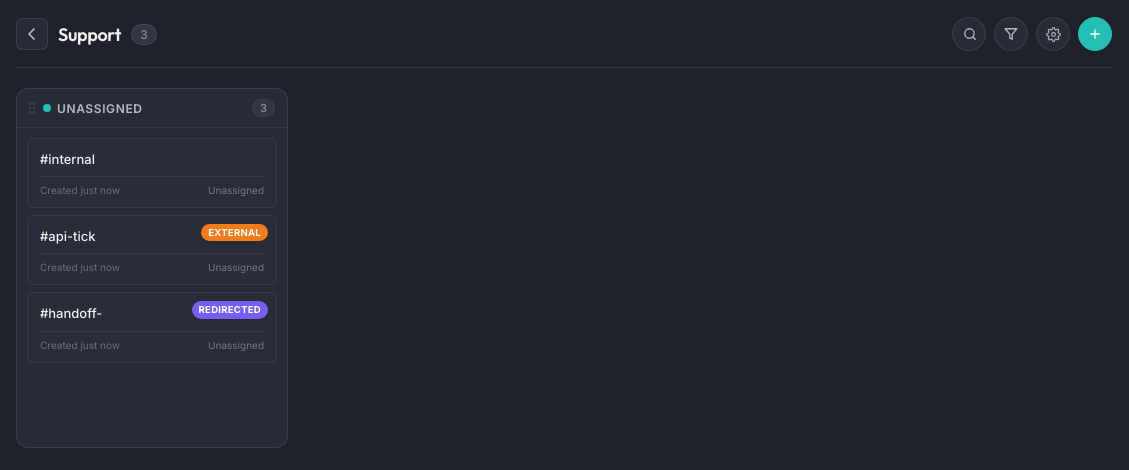
Test: WorkflowRecords — Source filter (Internal / External / Redirected) › selecting "Internal" shows only tickets with no origin tag
Expected: the number of elements with class "kb-card" is 3, [27, 138, 277, 208]; [27, 215, 277, 285]; [27, 292, 277, 363]
Click the button titled "Filters".
click(1011, 34)  # box [994, 17, 1028, 51]
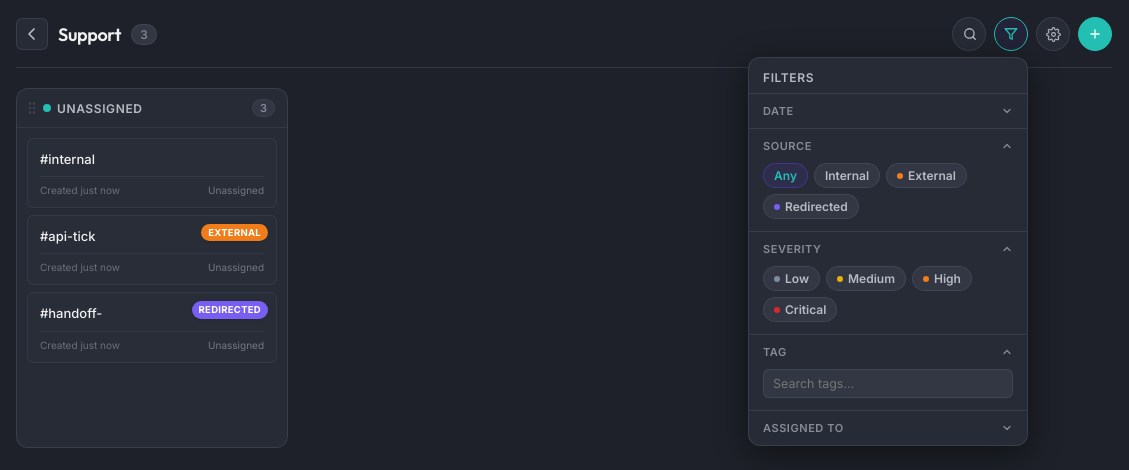
Click the button "Internal".
click(847, 176)  # box [814, 163, 880, 188]
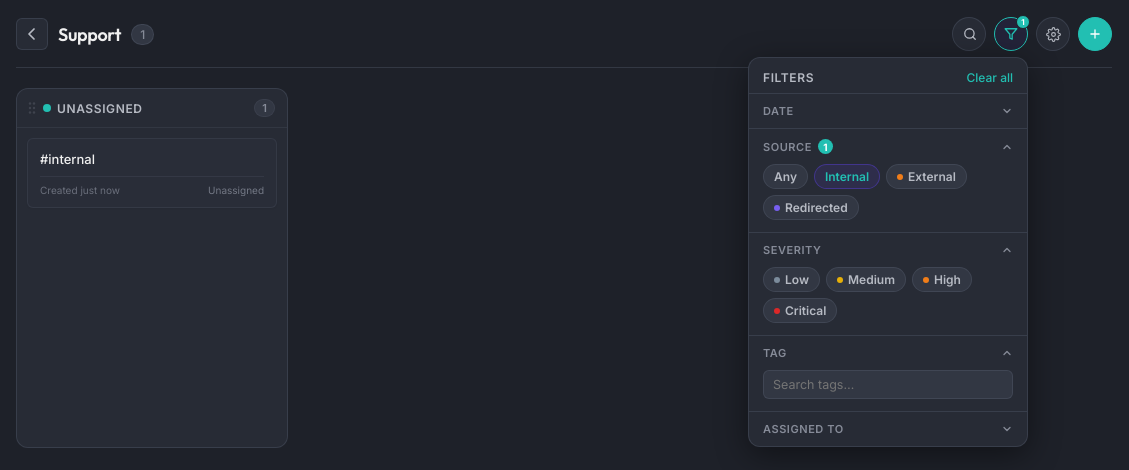
Now the number of elements with class "kb-card" is 1, box [27, 138, 277, 208]
Now no elements with class "kb-card-origin-corner" are shown
